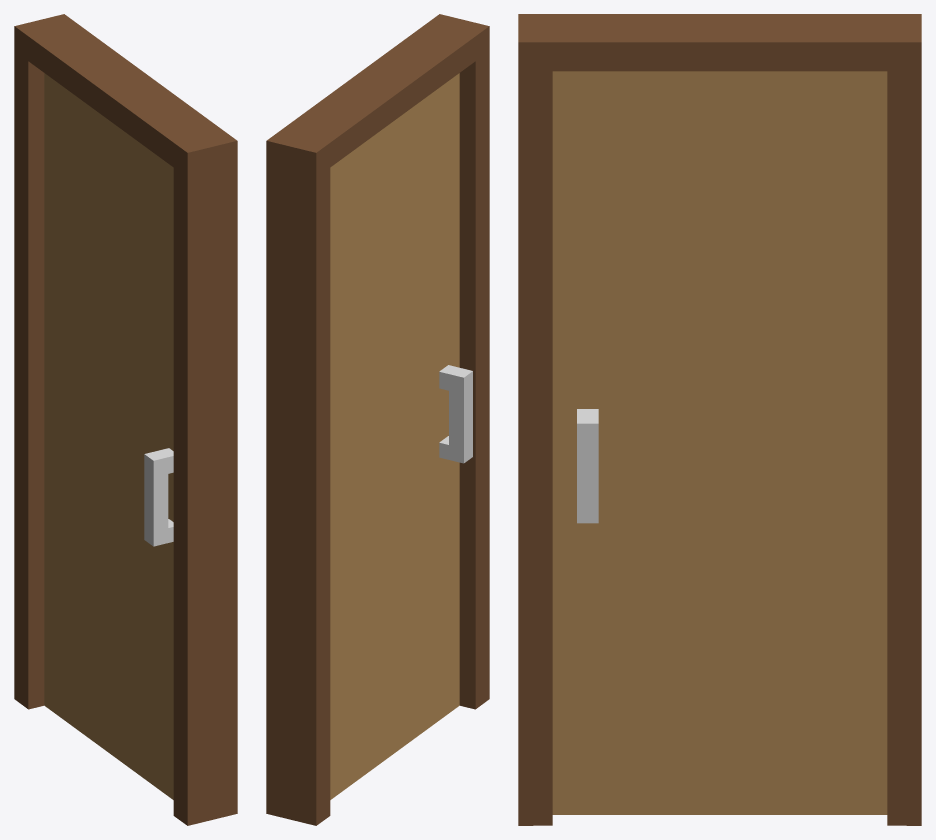
File: S.InsideDoor.fbx
3 views of the same model, side by side, from view 1: azimuth 30°, elevation 25°; view 2: azimuth 150°, elevation 25°; view 3: azimuth 270°, elevation 25° (orthographic). The views are drawn at different scales.
Visible parts, largest first — view 1: Cube.008; view 2: Cube.008; view 3: Cube.008.
Boxes of the visible parts, x1,y1,x2,y2 form: Cube.008: (14,14,237,825); Cube.008: (266,14,489,825); Cube.008: (518,14,921,825).
Size of the model in its own units: 65.79 by 648 by 302.
